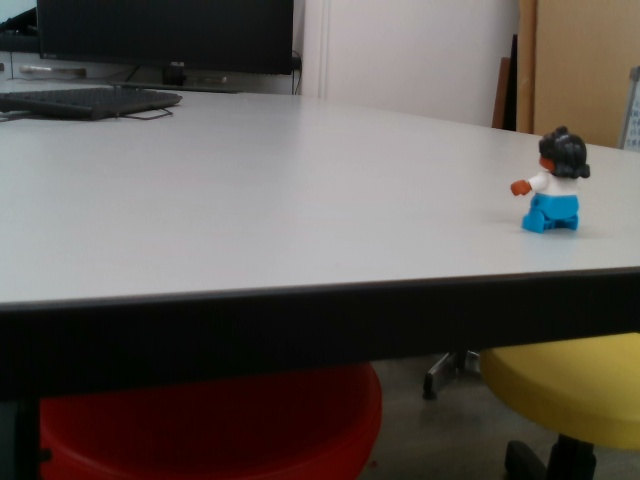people: (508, 125, 594, 234)
